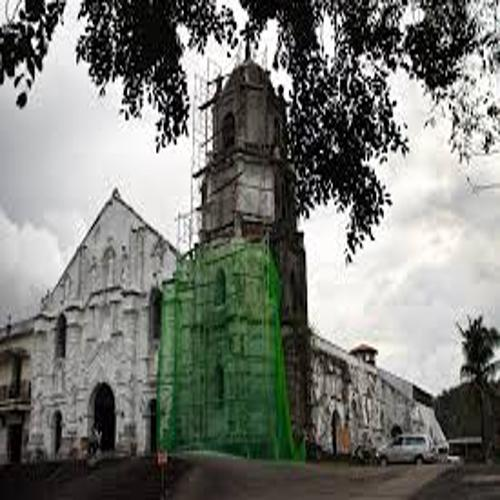Daraga Church: (36, 48, 319, 472)
